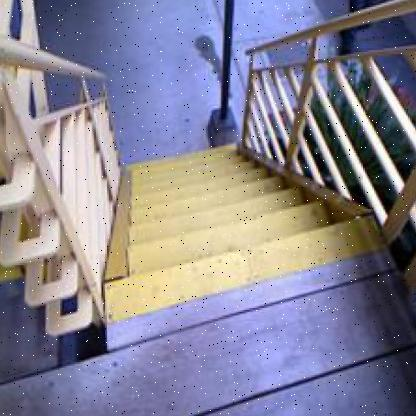stair_down: (97, 216, 393, 342)
